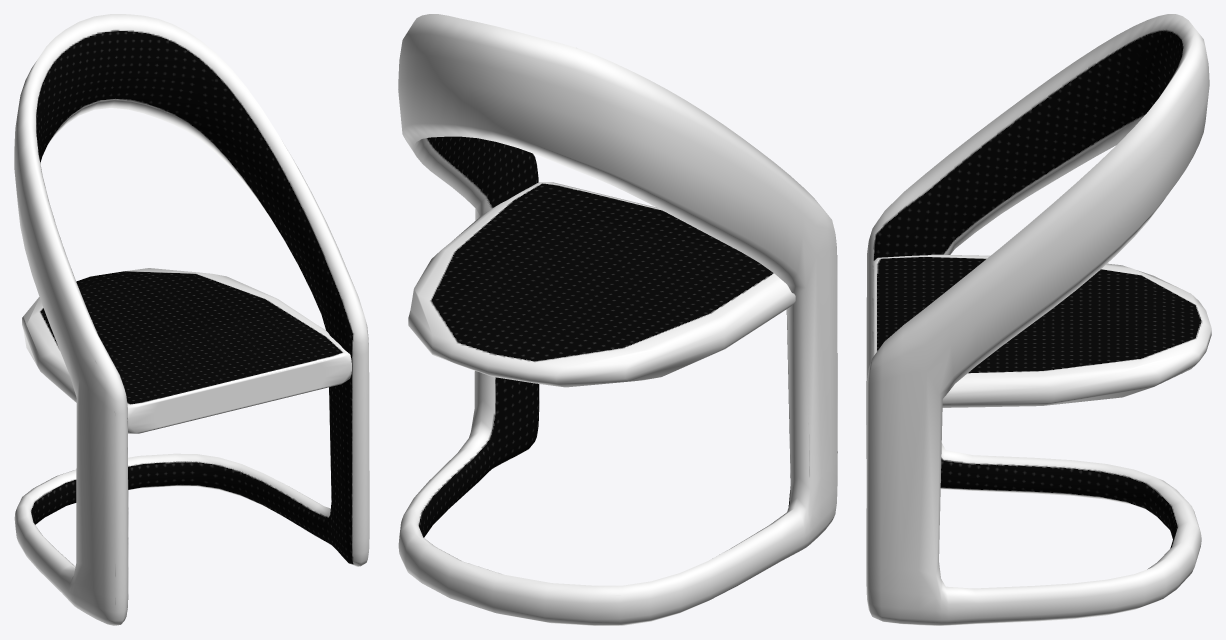
The model's file is chair.fbx.
The picture shows the model from 3 angles, left to right: view 1: azimuth 30°, elevation 25°; view 2: azimuth 150°, elevation 25°; view 3: azimuth 270°, elevation 25°; orthographic projection. The views are drawn at different scales.
Visible parts, largest first — view 1: Chair; view 2: Chair; view 3: Chair.
Part boxes in pixels (box(x1,y1,x2,y2)): Chair: box(14, 14, 369, 625); Chair: box(398, 14, 837, 625); Chair: box(866, 14, 1211, 625).
Bounding box in the file's own units: 442 × 732 × 437.
Materials: 2 (2 with a texture image).
